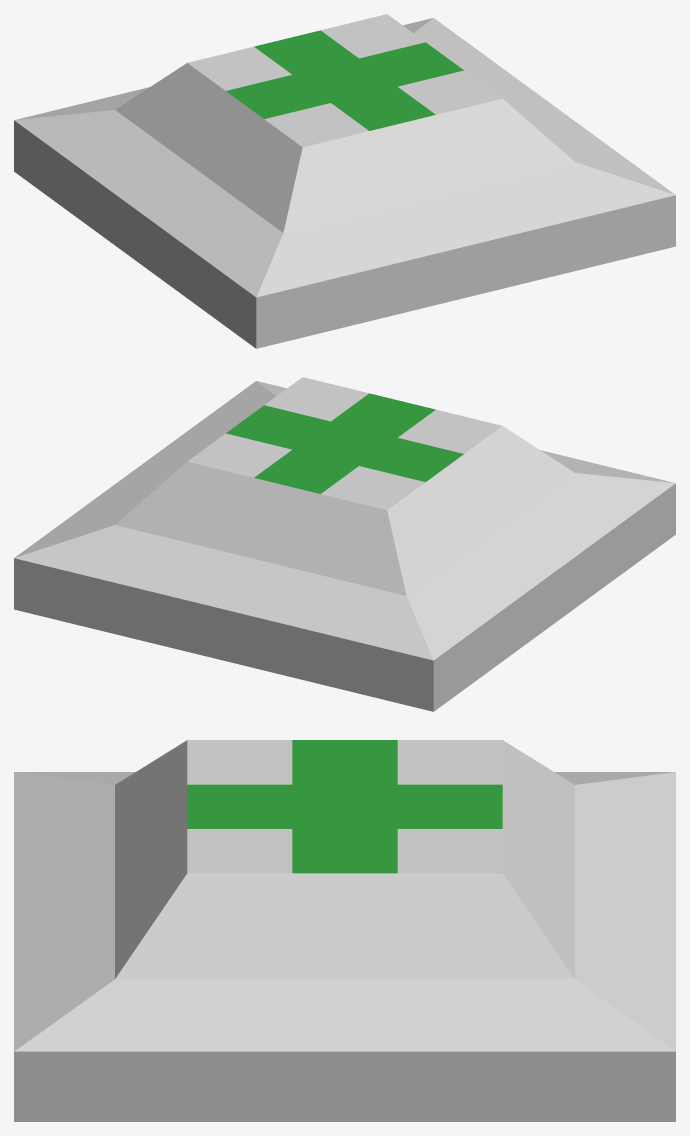
Rendered from medkit.glb.
3 views of the same model, one above another, from view 1: azimuth 30°, elevation 25°; view 2: azimuth 150°, elevation 25°; view 3: azimuth 270°, elevation 25° (orthographic). The views are drawn at different scales.
Parts seen in each view (by area): view 1: Cube; view 2: Cube; view 3: Cube.
Boxes of the visible parts, x1,y1,x2,y2 form: Cube: (14,14,675,348); Cube: (14,377,675,711); Cube: (14,740,675,1121).
Bounding box in the file's own units: 0.4961 × 0.1449 × 0.4961.
